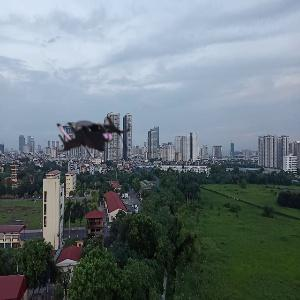drone: (48, 94, 135, 181)
